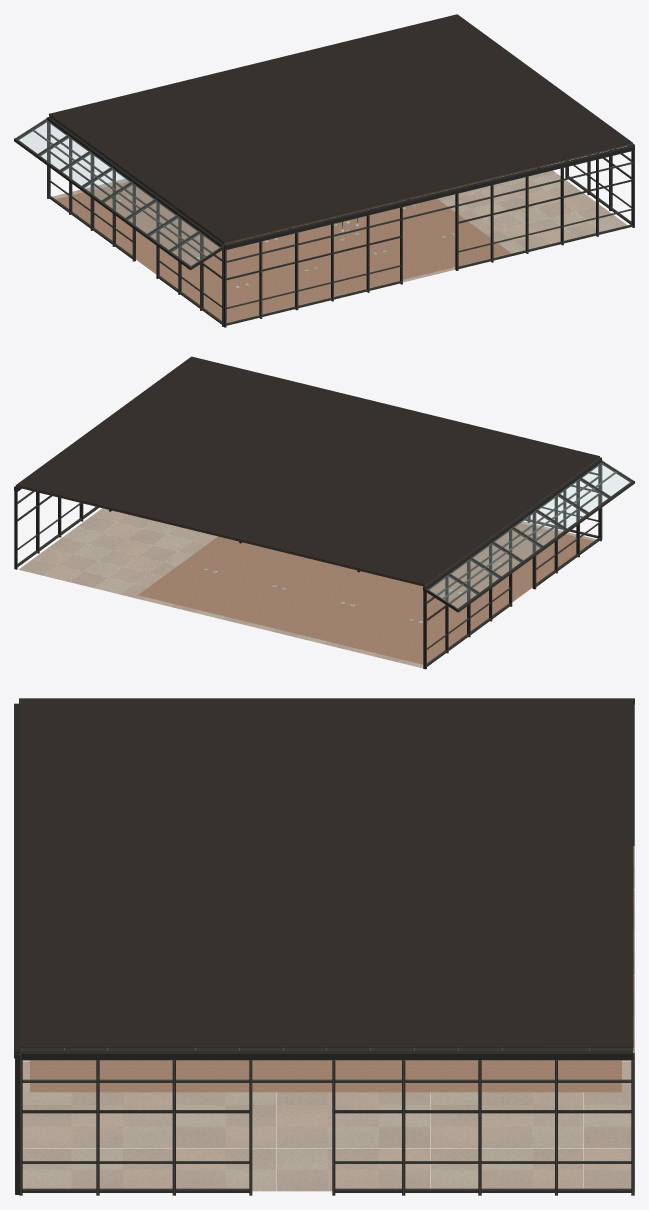
File: window.glb
3 views of the same model, one above another, from view 1: azimuth 30°, elevation 25°; view 2: azimuth 150°, elevation 25°; view 3: azimuth 270°, elevation 25° (orthographic). The views are drawn at different scales.
Visible parts, largest first — view 1: GardenSteel, GardenFloor, GardenGlass; view 2: GardenSteel, GardenFloor, GardenGlass; view 3: GardenSteel, GardenFloor.
Boxes of the visible parts, x1=… form: GardenSteel: x1=14, y1=14, x2=634, y2=327; GardenFloor: x1=52, y1=166, x2=627, y2=322; GardenGlass: x1=18, y1=120, x2=454, y2=286; GardenSteel: x1=14, y1=356, x2=634, y2=669; GardenFloor: x1=18, y1=508, x2=595, y2=668; GardenGlass: x1=208, y1=462, x2=630, y2=623; GardenSteel: x1=14, y1=698, x2=634, y2=1195; GardenFloor: x1=22, y1=846, x2=634, y2=1191.
Bounding box in the file's own units: 25.99 × 4.7 × 17.96.
Materials: 4 (1 with a texture image).
